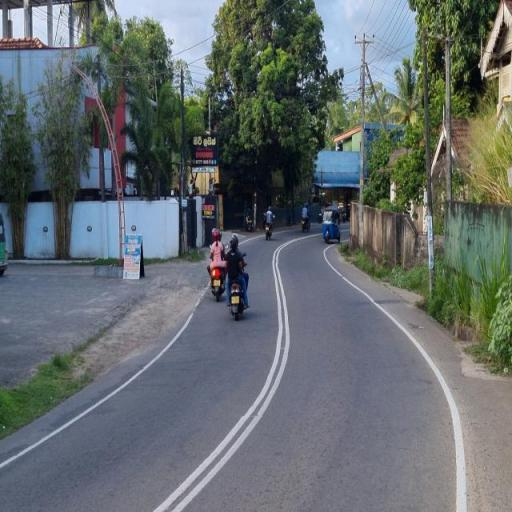double_white_line: (4, 286, 202, 470)
